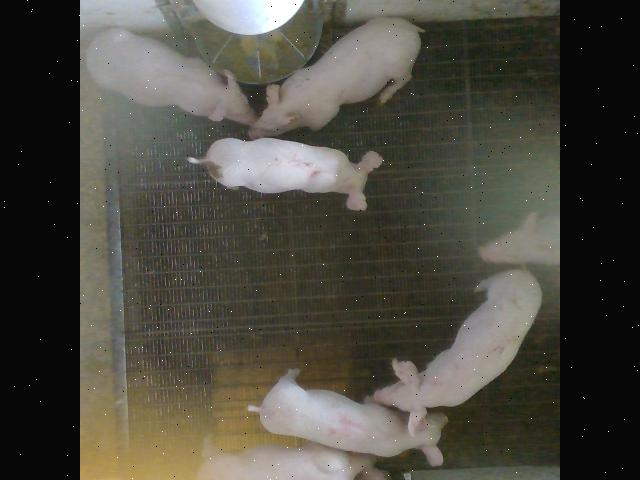pig-4: (248, 368, 448, 464)
pig-5: (188, 138, 382, 210)
